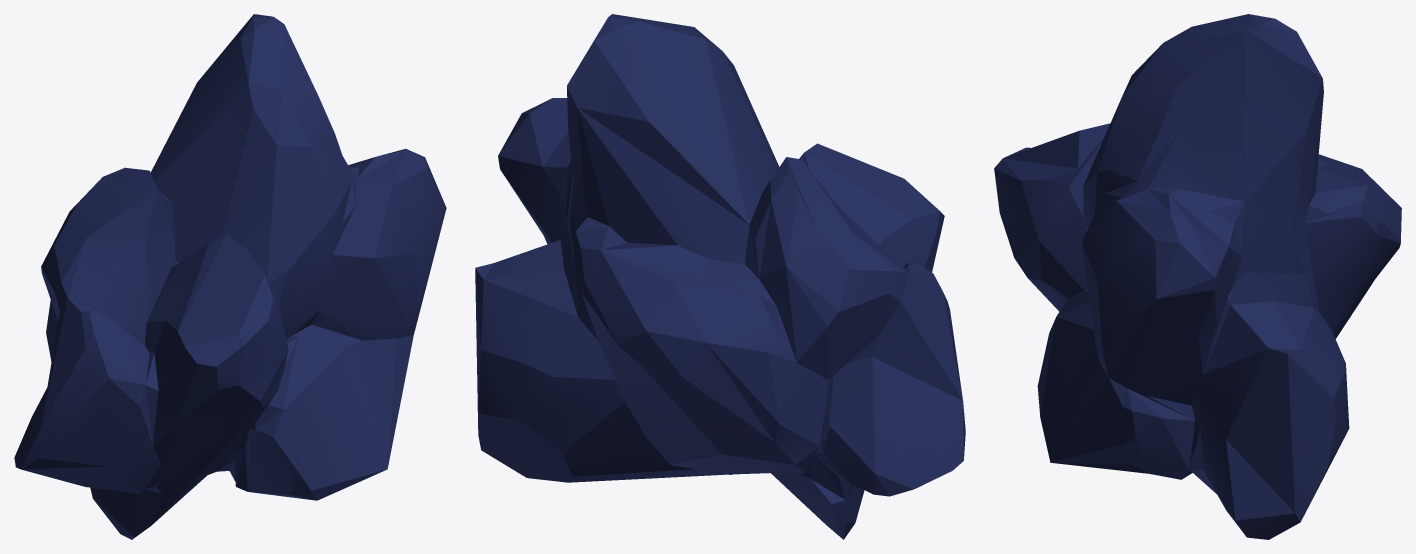
The model's file is M_RockStack_01 1.fbx.
The picture shows the model from 3 angles, left to right: view 1: azimuth 30°, elevation 25°; view 2: azimuth 150°, elevation 25°; view 3: azimuth 270°, elevation 25°; orthographic projection. The views are drawn at different scales.
Parts seen in each view (by area): view 1: rockstack_01; view 2: rockstack_01; view 3: rockstack_01.
Part boxes in pixels (box(x1,y1,x2,y2)): rockstack_01: box(14, 14, 446, 539); rockstack_01: box(475, 14, 965, 539); rockstack_01: box(994, 14, 1401, 539).
Bounding box in the file's own units: 20.52 × 21.51 × 15.88.
